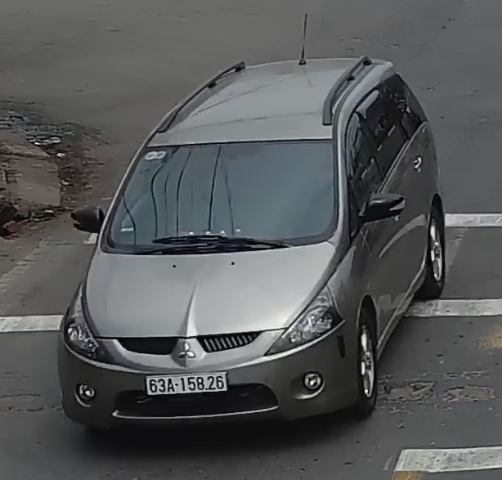vehicle plate: (142, 369, 233, 399)
